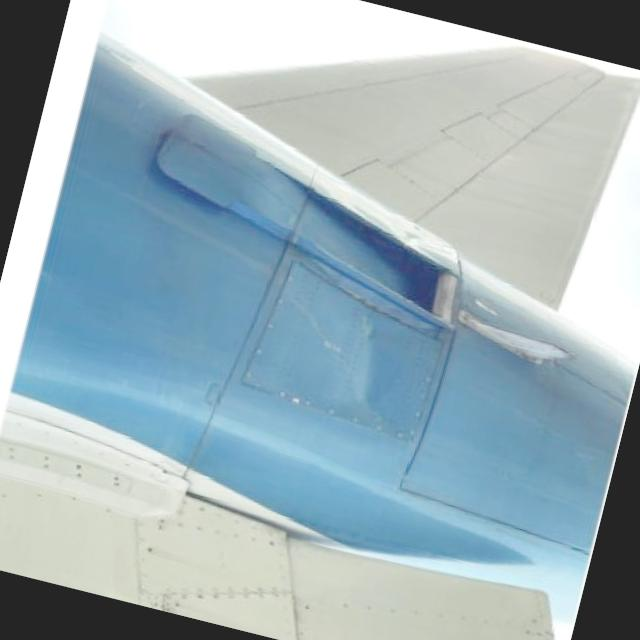dent: (332, 305, 393, 421)
